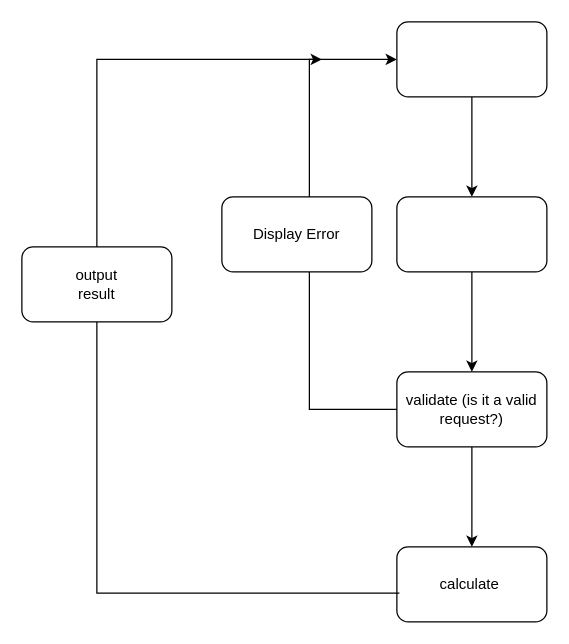
Some shapes in this 569 by 644 pixel diagram are drawn without their labels. The shapes that lost their labels are listed below. From the top down, each one's centre as x and y in pixels, then its label:
At point 471,59: "Input calculation string".
At point 471,234: "parse string".
